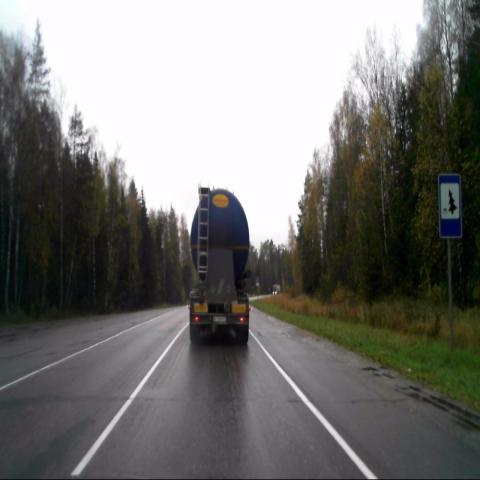7_11: (438, 172, 462, 241)
